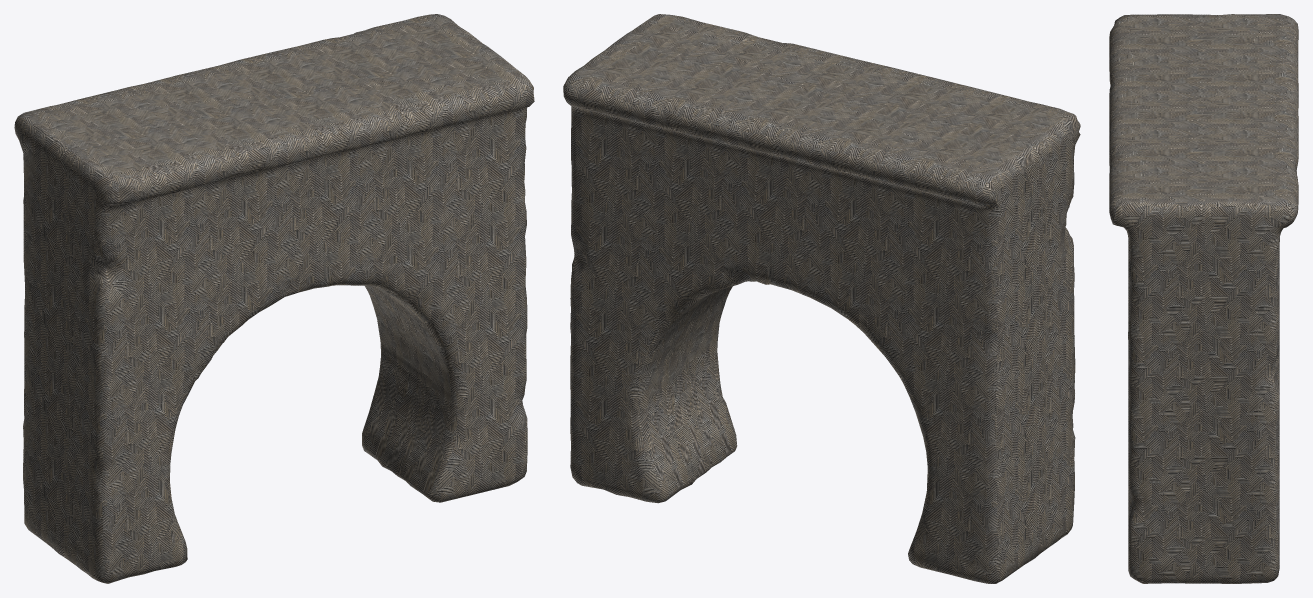
File: arco_tatooine.obj
The picture shows the model from 3 angles, left to right: view 1: azimuth 30°, elevation 25°; view 2: azimuth 150°, elevation 25°; view 3: azimuth 270°, elevation 25°; orthographic projection. The views are drawn at different scales.
Parts seen in each view (by area): view 1: export_swarch_low_SWarch_mat_0; view 2: export_swarch_low_SWarch_mat_0; view 3: export_swarch_low_SWarch_mat_0.
Boxes of the visible parts, x1,y1,x2,y2 form: export_swarch_low_SWarch_mat_0: (14, 14, 534, 583); export_swarch_low_SWarch_mat_0: (563, 14, 1080, 583); export_swarch_low_SWarch_mat_0: (1109, 14, 1298, 583).
Size of the model in its own units: 1.09 by 1 by 0.4507.
Materials: 1 (1 with a texture image).
